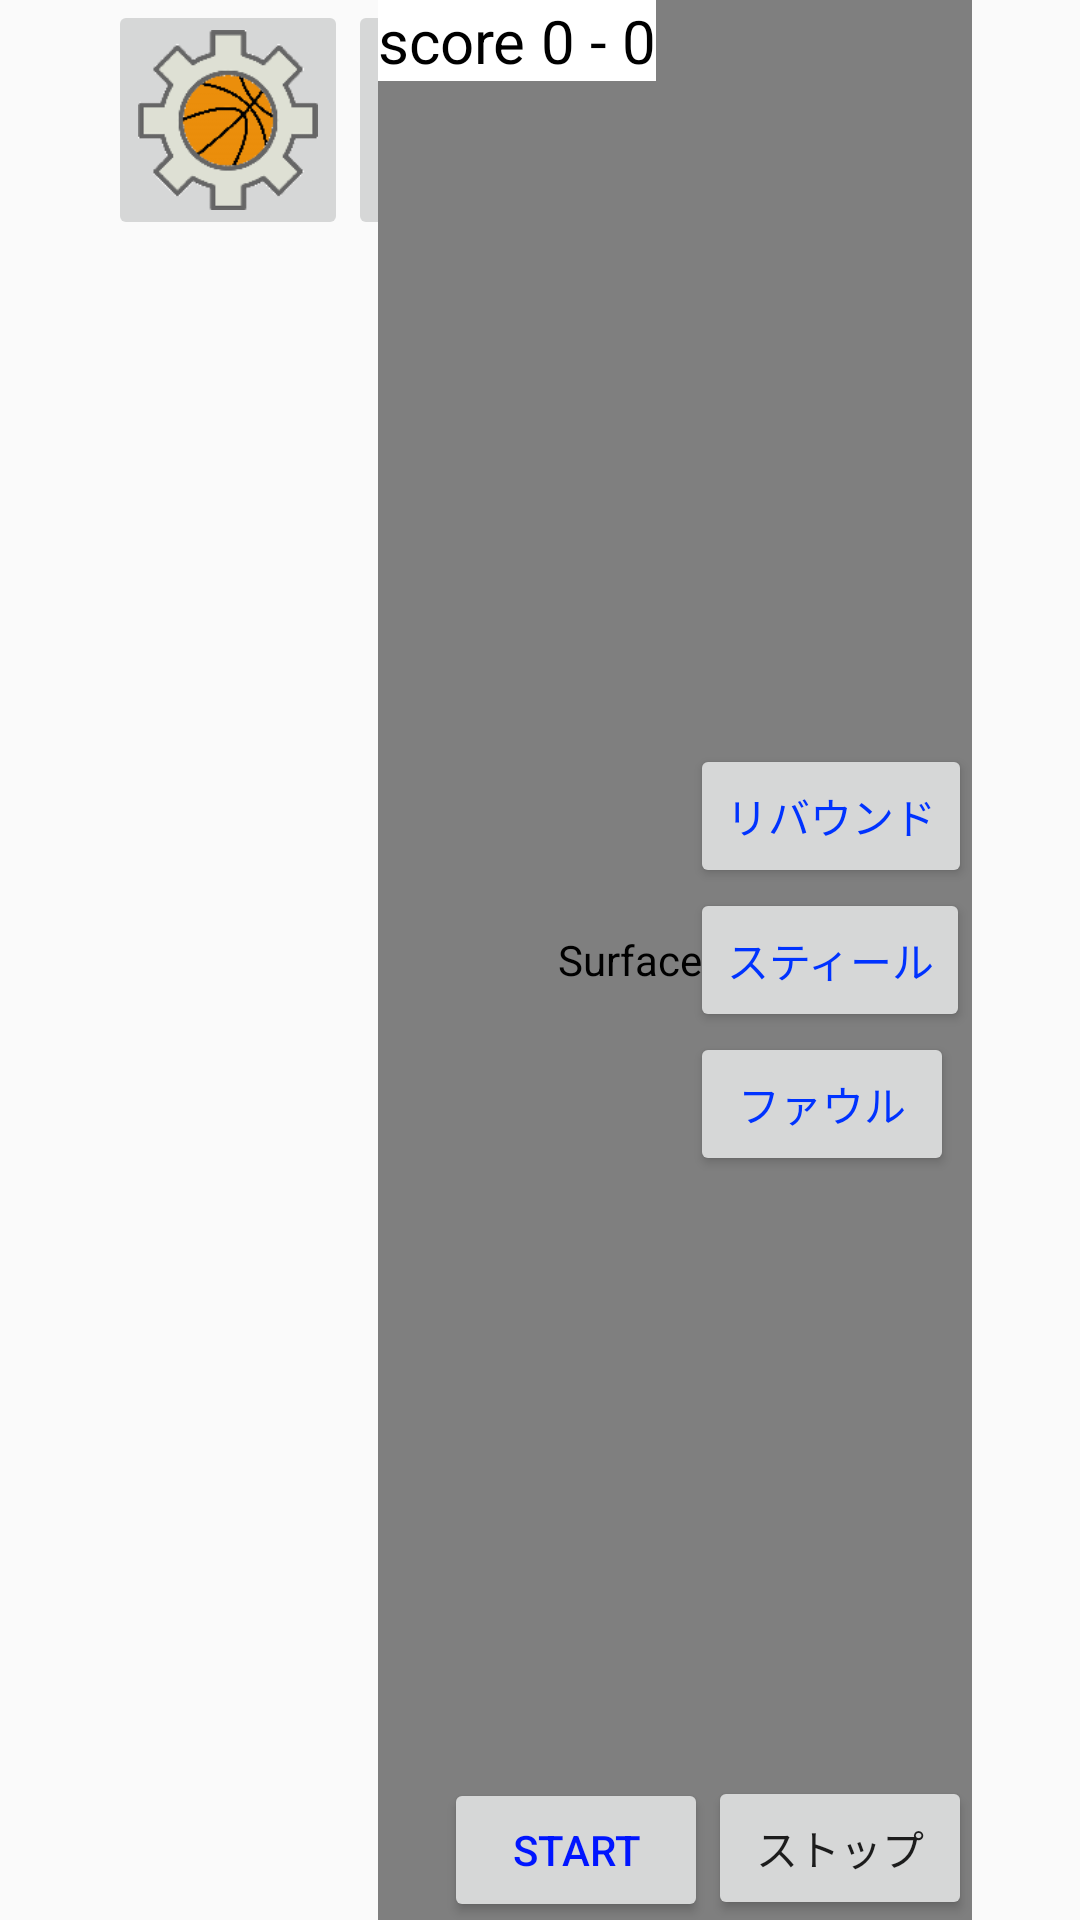

Icons on this 1080*1920 Android screen, each with the point to tap as [x,y]:
setting: [228,120]
